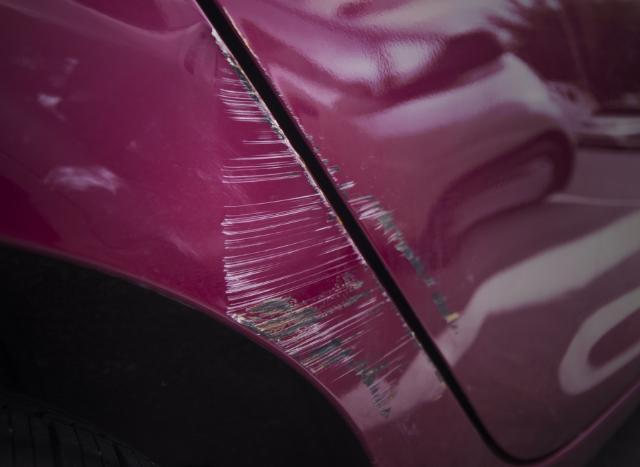Door: (240, 34, 500, 346)
Fender: (171, 23, 454, 465)
